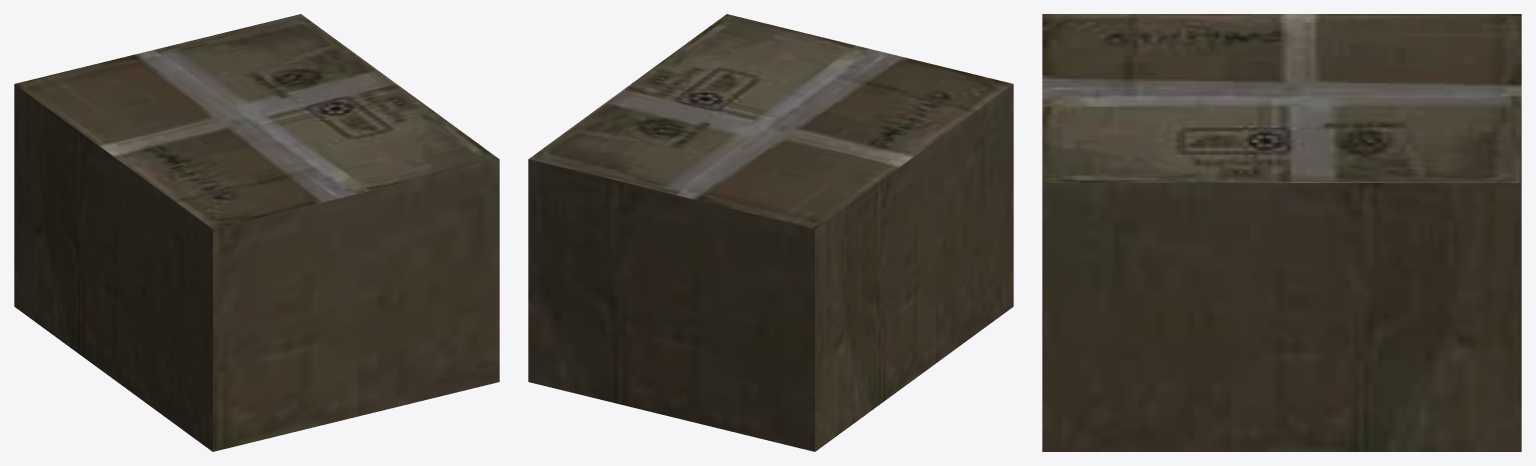
File: cardboard_box002a.glb
3 views of the same model, side by side, from view 1: azimuth 30°, elevation 25°; view 2: azimuth 150°, elevation 25°; view 3: azimuth 270°, elevation 25° (orthographic). The views are drawn at different scales.
Visible parts, largest first — view 1: 0_Cardboard_boxes001a; view 2: 0_Cardboard_boxes001a; view 3: 0_Cardboard_boxes001a.
Part boxes in pixels (x1,y1,x2,y2): 0_Cardboard_boxes001a: (14, 14, 499, 451); 0_Cardboard_boxes001a: (528, 14, 1013, 451); 0_Cardboard_boxes001a: (1042, 14, 1521, 451).
Size of the model in its own units: 0.8203 by 0.6089 by 0.9834.
Materials: 1 (1 with a texture image).
